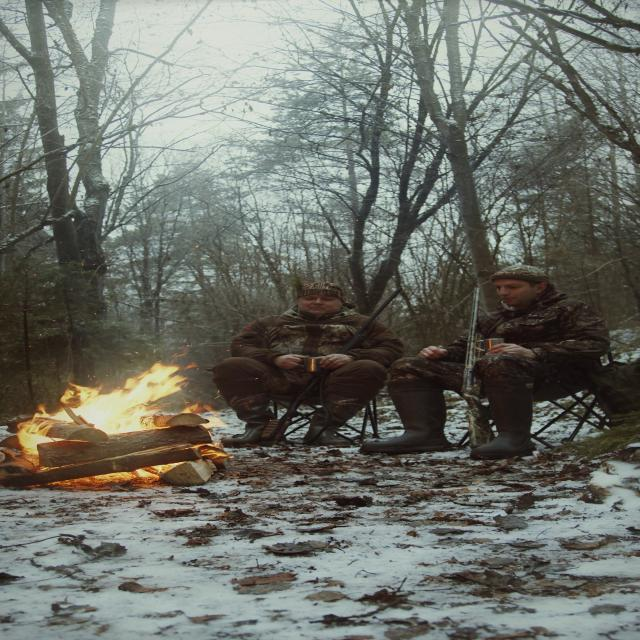Fire: (4, 360, 250, 468)
